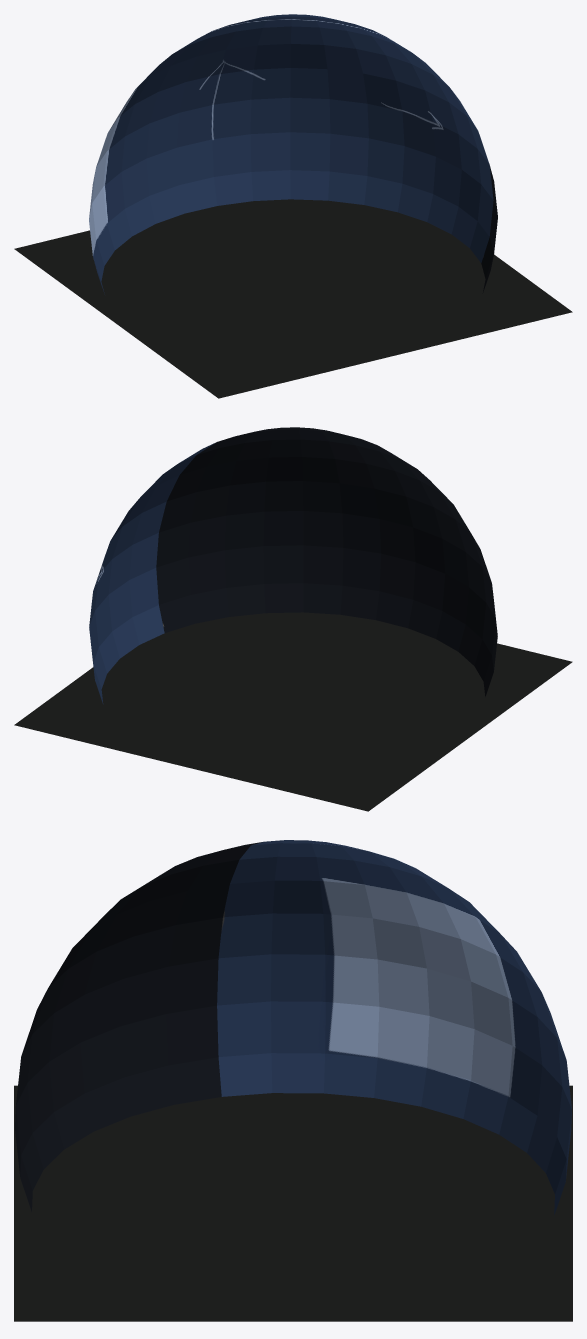
Rendered from domo e chao.fbx.
3 views of the same model, one above another, from view 1: azimuth 30°, elevation 25°; view 2: azimuth 150°, elevation 25°; view 3: azimuth 270°, elevation 25° (orthographic). The views are drawn at different scales.
Visible parts, largest first — view 1: domo, Chao; view 2: domo, Chao; view 3: domo, Chao.
Part boxes in pixels (x1,y1,x2,y2): domo: [89, 14, 497, 294]; Chao: [14, 199, 572, 398]; domo: [89, 427, 497, 704]; Chao: [14, 612, 572, 811]; domo: [15, 840, 571, 1214]; Chao: [14, 1085, 572, 1321].
Bounding box in the file's own units: 3000 × 2074 × 3000.
Materials: 2 (1 with a texture image).
